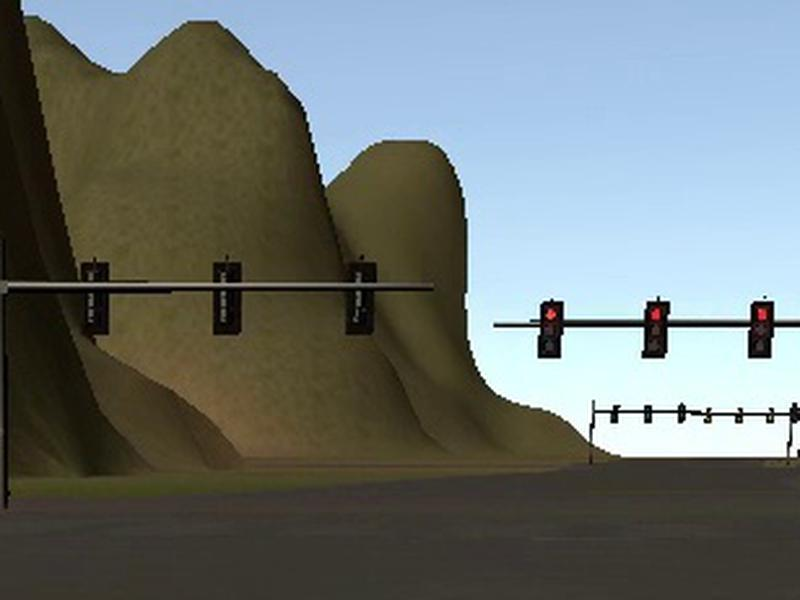Red: (642, 301, 669, 358), (537, 302, 564, 358), (748, 301, 774, 357)
